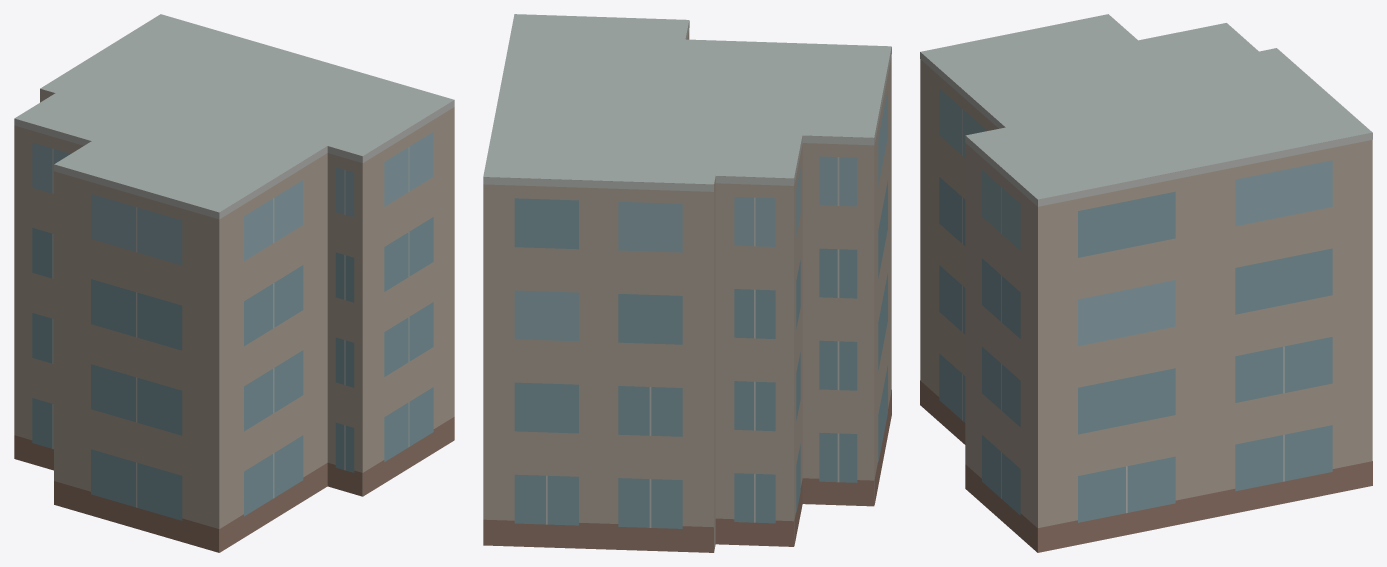
The model's file is survey-upis-32945382.glb.
3 renders of one model, left to right at view 1: azimuth 30°, elevation 25°; view 2: azimuth 150°, elevation 25°; view 3: azimuth 270°, elevation 25°, orthographic. The views are drawn at different scales.
Parts seen in each view (by area): view 1: survey-upis-32945382.tmp; view 2: survey-upis-32945382.tmp; view 3: survey-upis-32945382.tmp.
Boxes of the visible parts, x1,y1,x2,y2 form: survey-upis-32945382.tmp: (14,14,454,552); survey-upis-32945382.tmp: (483,14,891,552); survey-upis-32945382.tmp: (920,14,1372,552).
Bounding box in the file's own units: 13.46 × 11.94 × 13.87.
